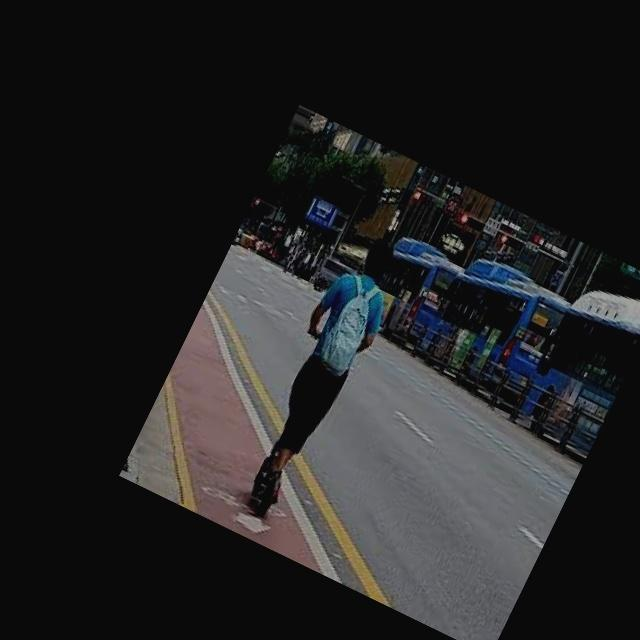bare_head: (366, 233, 403, 276)
human: (273, 218, 393, 498)
kickboard: (248, 447, 287, 528)
